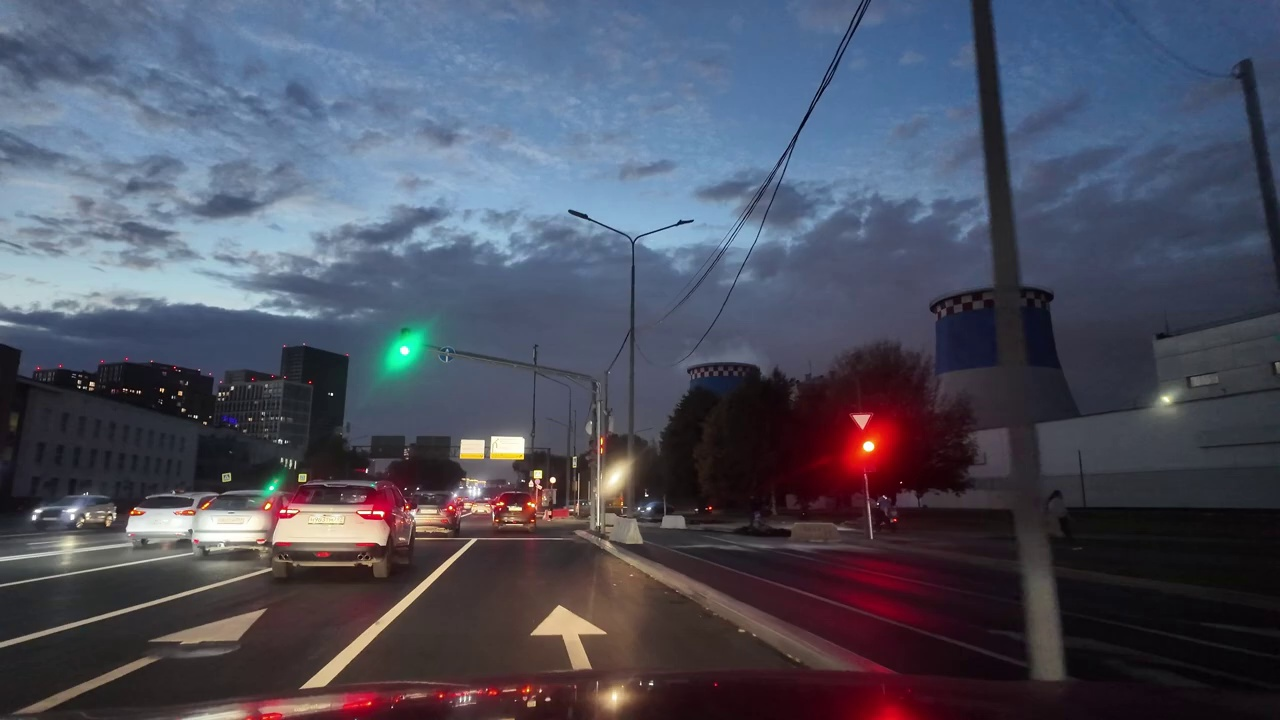apagada: (561, 197, 609, 233), (665, 207, 706, 235)
